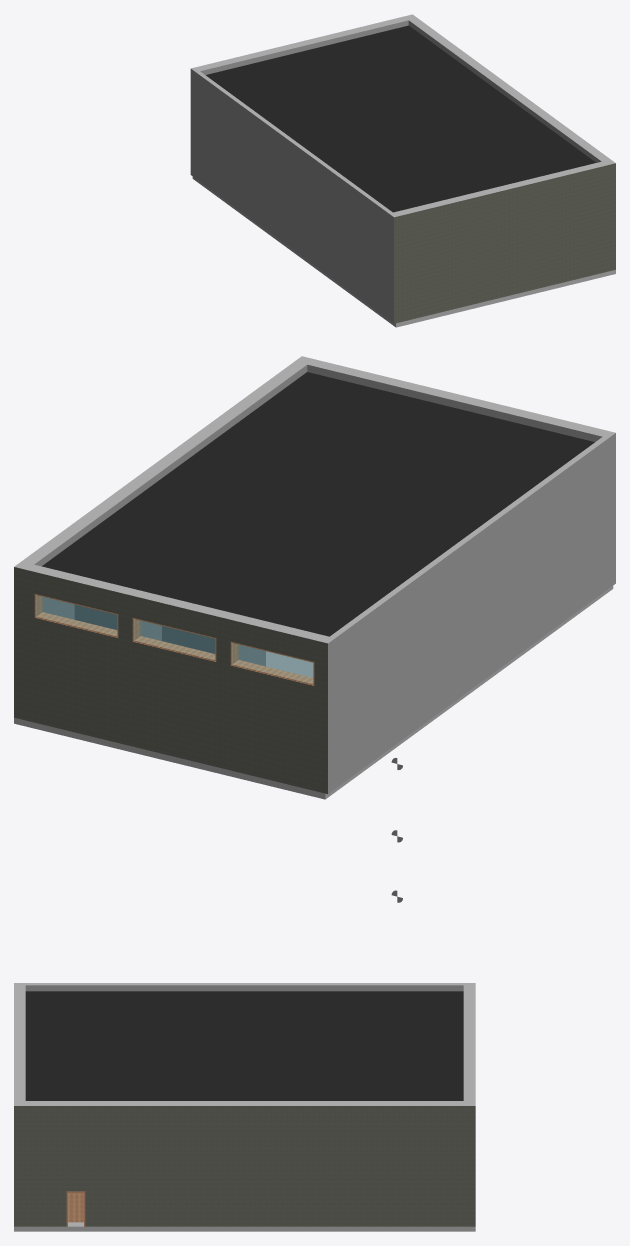
The model's file is Wild Office_3D View 1.glb.
3 renders of one model, top to bottom at view 1: azimuth 30°, elevation 25°; view 2: azimuth 150°, elevation 25°; view 3: azimuth 270°, elevation 25°, orthographic. The views are drawn at different scales.
Visible parts, largest first — view 1: Basic Roof Steel Truss - Insulation on Metal Deck - EPDM, Basic Wall Exterior - CMU Insulated (×3), Basic Wall Exterior - EIFS on Mtl. Stud, Floor Generic - 12"; view 2: Basic Roof Steel Truss - Insulation on Metal Deck - EPDM, Basic Wall Exterior - CMU Insulated (×3), Basic Wall Exterior - EIFS on Mtl. Stud, 14'6" x 48" (×3), Floor Generic - 12" (×2), Basic Wall Interior - 4 3/4" wood stud Partition; view 3: Basic Wall Exterior - CMU Insulated (×3), Basic Roof Steel Truss - Insulation on Metal Deck - EPDM, Basic Wall Exterior - EIFS on Mtl. Stud, Floor Generic - 12", 36" x 84".
Boxes of the visible parts, left/top/right/bottom form: Basic Roof Steel Truss - Insulation on Metal Deck - EPDM: left=205, top=25, right=595, bottom=212; Basic Wall Exterior - CMU Insulated (×3): left=190, top=14, right=615, bottom=323; Basic Wall Exterior - EIFS on Mtl. Stud: left=196, top=71, right=392, bottom=319; Floor Generic - 12": left=192, top=177, right=615, bottom=327; Basic Roof Steel Truss - Insulation on Metal Deck - EPDM: left=42, top=372, right=594, bottom=636; Basic Wall Exterior - CMU Insulated (×3): left=14, top=356, right=615, bottom=793; Basic Wall Exterior - EIFS on Mtl. Stud: left=330, top=437, right=608, bottom=788; 14'6" x 48" (×3): left=34, top=594, right=314, bottom=685; Floor Generic - 12" (×2): left=14, top=586, right=613, bottom=799; Basic Wall Interior - 4 3/4" wood stud Partition: left=162, top=626, right=265, bottom=666; Basic Wall Exterior - CMU Insulated (×3): left=14, top=983, right=475, bottom=1226; Basic Roof Steel Truss - Insulation on Metal Deck - EPDM: left=25, top=991, right=463, bottom=1100; Basic Wall Exterior - EIFS on Mtl. Stud: left=25, top=983, right=463, bottom=991; Floor Generic - 12": left=14, top=1222, right=475, bottom=1231; 36" x 84": left=66, top=1191, right=85, bottom=1226.
Size of the model in its own units: 25.24 by 7.92 by 34.4.
Materials: 14 (6 with a texture image).
